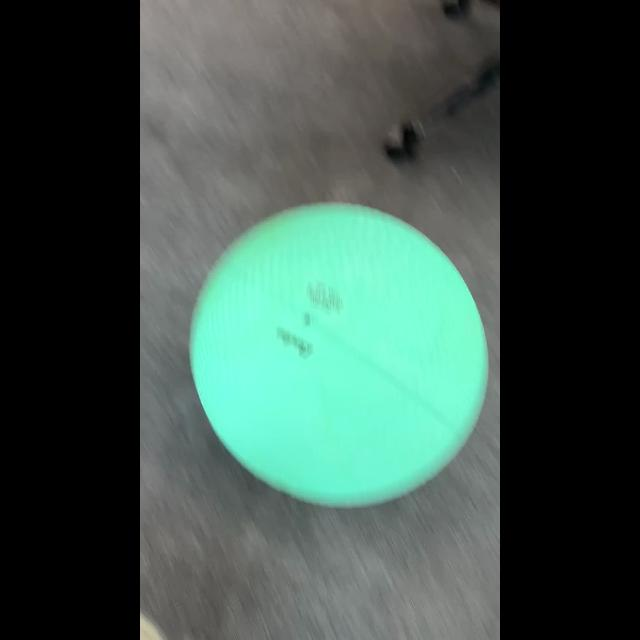ALGAE: (187, 201, 488, 509)
